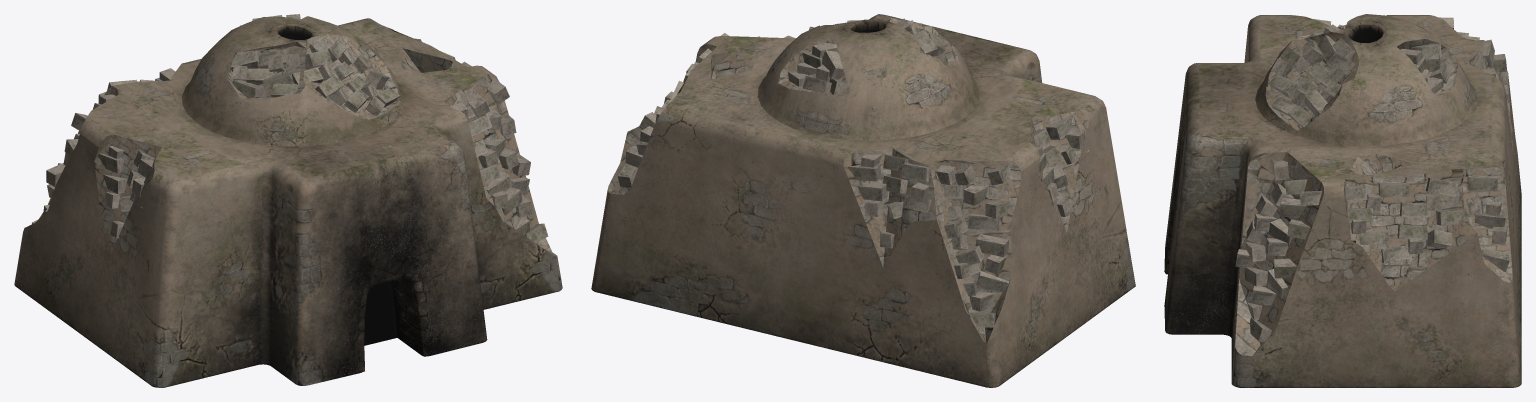
File: Limestone_Burner_Destruction_Stage_2.fbx
3 views of the same model, side by side, from view 1: azimuth 30°, elevation 25°; view 2: azimuth 150°, elevation 25°; view 3: azimuth 270°, elevation 25° (orthographic).
Parts seen in each view (by area): view 1: Limestone_Burner_Destruction_S2; view 2: Limestone_Burner_Destruction_S2; view 3: Limestone_Burner_Destruction_S2.
Part boxes in pixels (x1=…): Limestone_Burner_Destruction_S2: x1=14, y1=14, x2=562, y2=387; Limestone_Burner_Destruction_S2: x1=591, y1=14, x2=1135, y2=387; Limestone_Burner_Destruction_S2: x1=1164, y1=14, x2=1521, y2=387.
Size of the model in its own units: 480 by 291 by 364.
